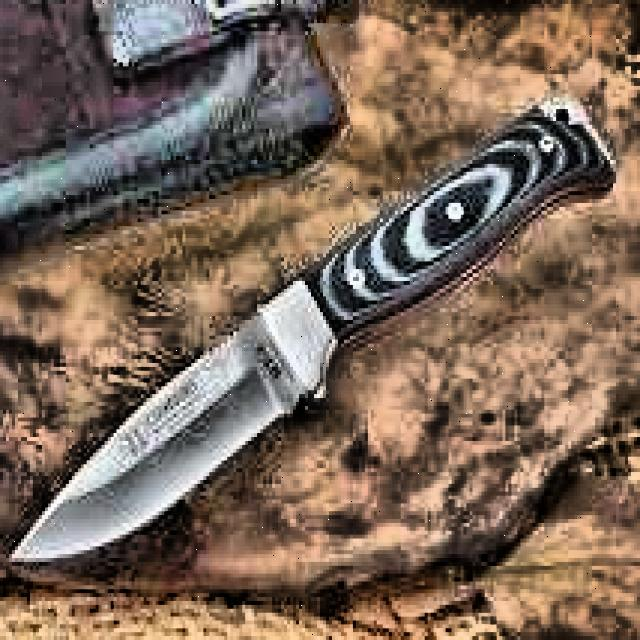knife: (10, 96, 618, 567)
